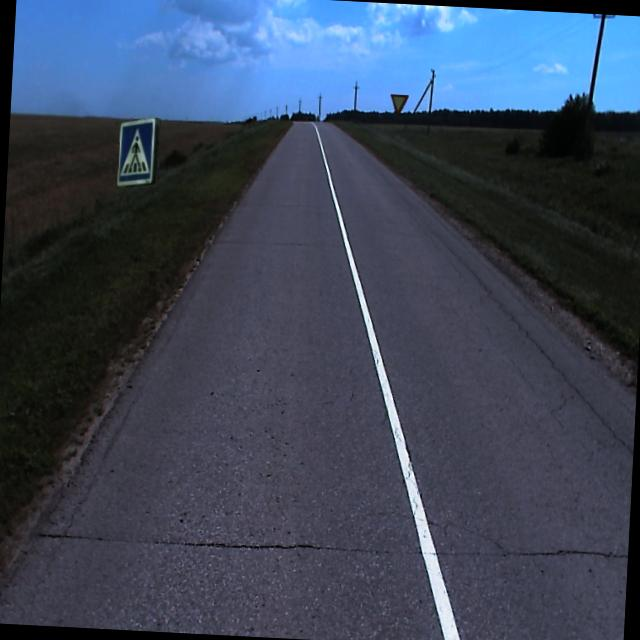road: (0, 122, 636, 640)
